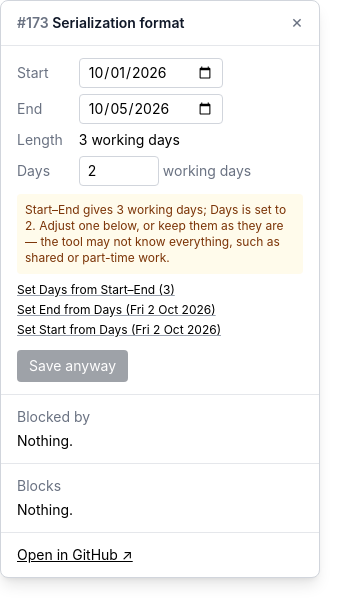
Scenario: TaskDetail › Days › Set Days from Start–End fills the Days box, and waits for Save
The width and height of the screenshot is (337, 604).
Click the button "Set Days from Start–End (3)" at (96, 290), box [17,282,175,298]
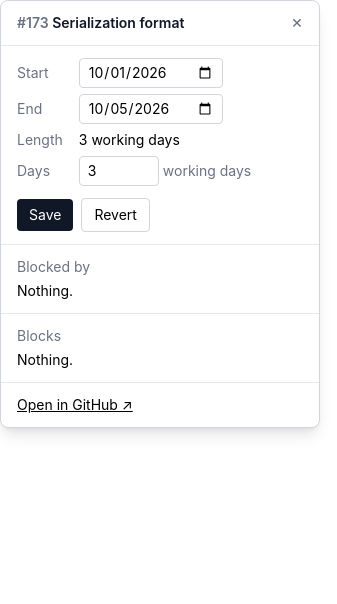
Result: the number field with id "detail-days" holds "3" at [79,156,159,186]
Result: the button "Save" is shown at [17,199,73,231]
